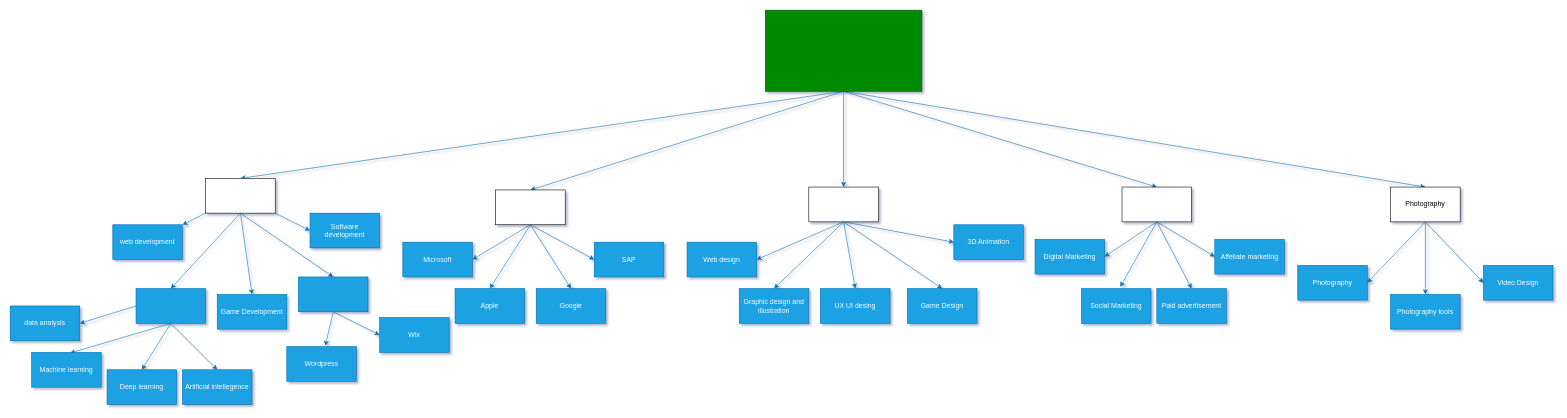
The diagram is 1567 pixels wide and 418 high, and some of its shapes have lost their labels. Each missing label, with the centre of its shape:
Data Science: pixel 170 305
Design: pixel 843 204
Development: pixel 240 195
Marketing: pixel 1156 204
No code Development: pixel 333 294
Office Productivity: pixel 530 207
Training Nexus: pixel 843 50
